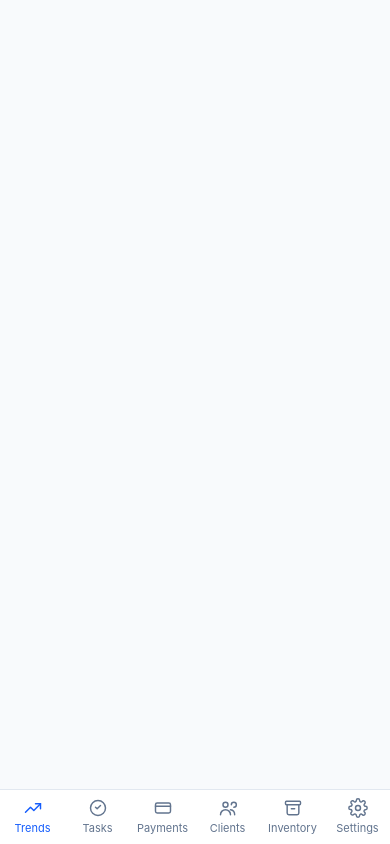
it: MobileNav › открывает bottom-sheet по клику на пункт с подменю
This screenshot has width=390, height=844.
Click the button "Inventory". click: coordinates (292, 817)
box: [260,790,325,843]
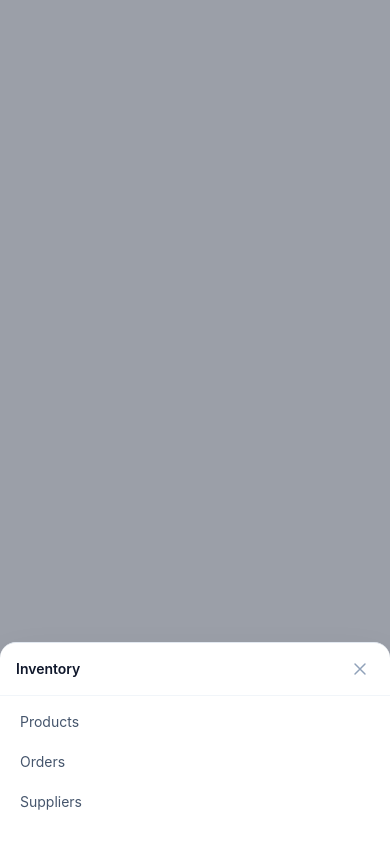
Check: the link "Products" is shown, box [20,713,79,730]
